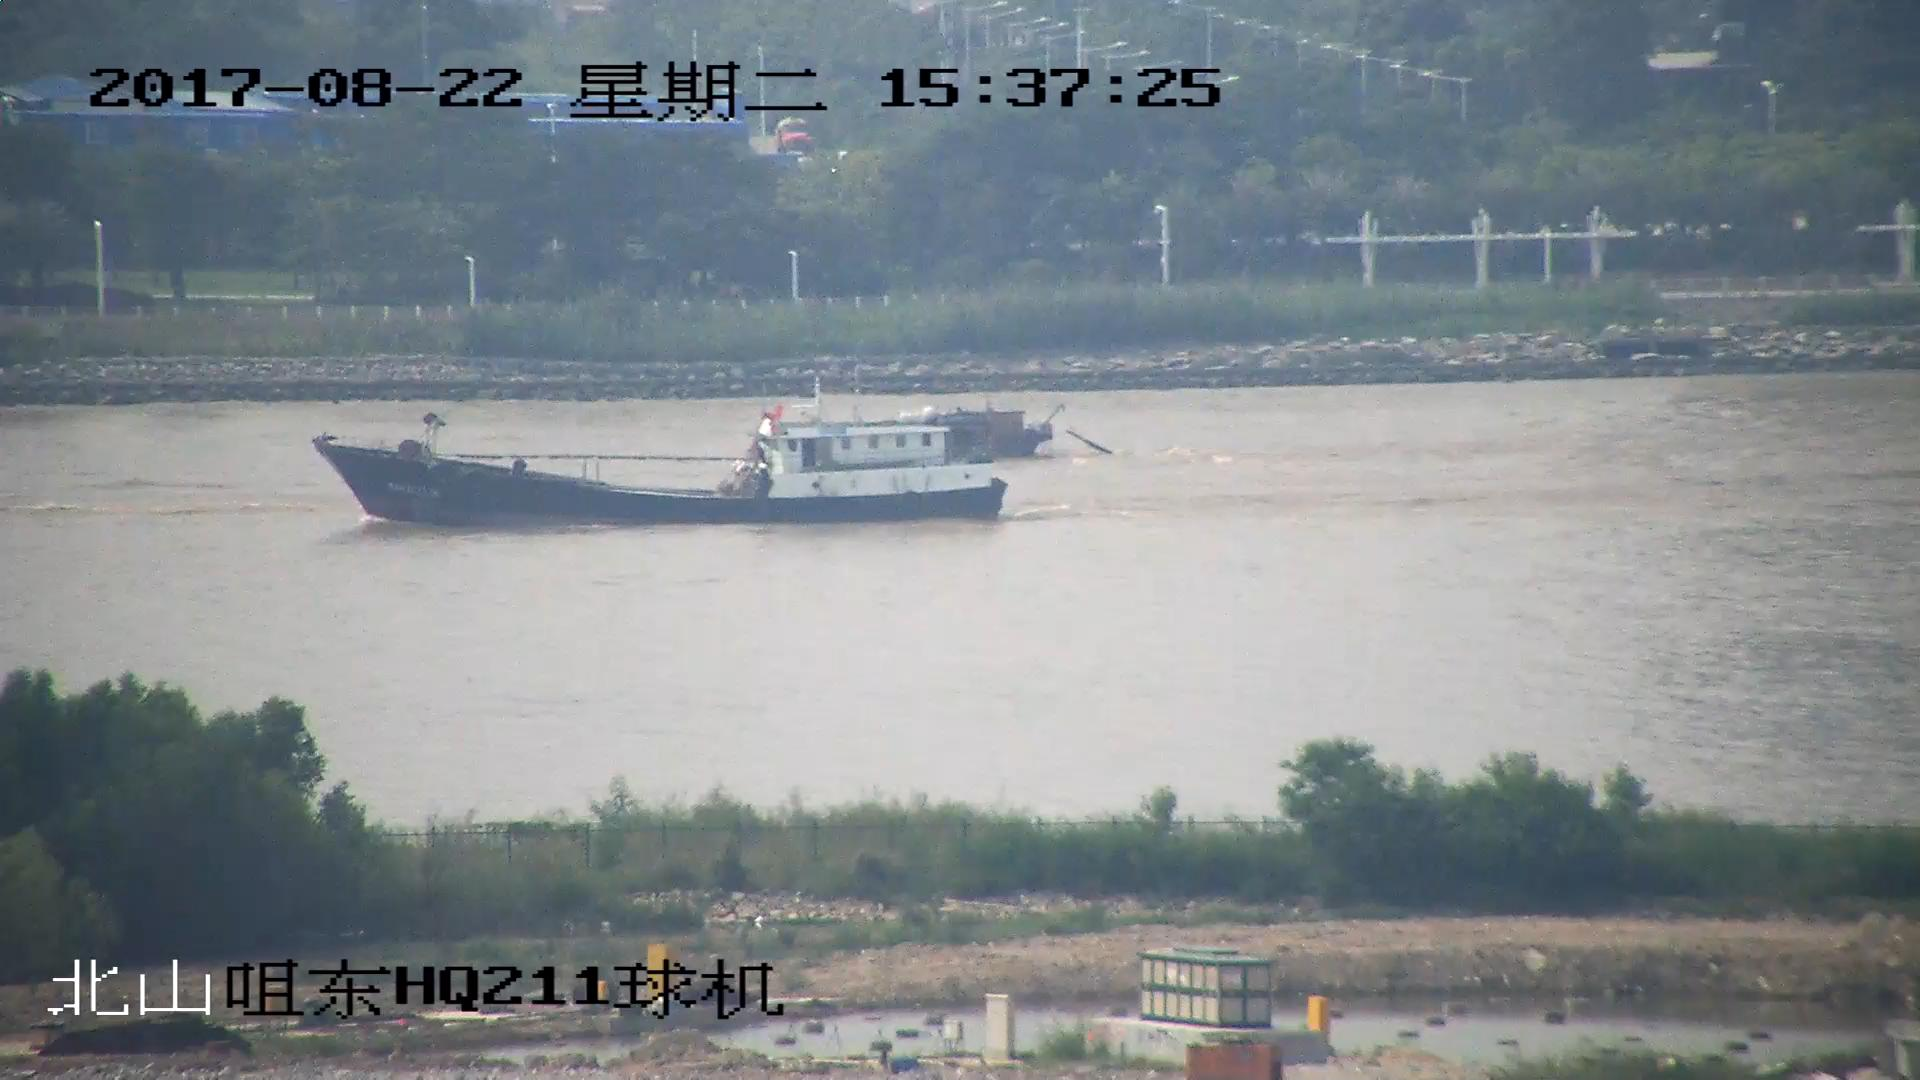fishing boat: (306, 416, 1004, 522), (780, 405, 1110, 463)
